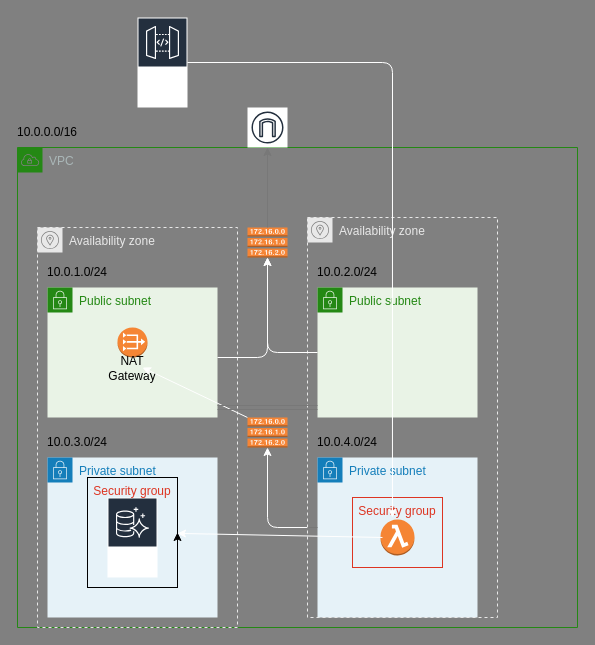
The diagram is 595 pixels wide and 645 high, and some of its shapes have lost their labels. Each missing label, with the centre of its shape:
"Amazon API Gateway" belongs at point (162, 62).
"Amazon Aurora" belongs at point (132, 537).
"Internet gateway" belongs at point (267, 127).
